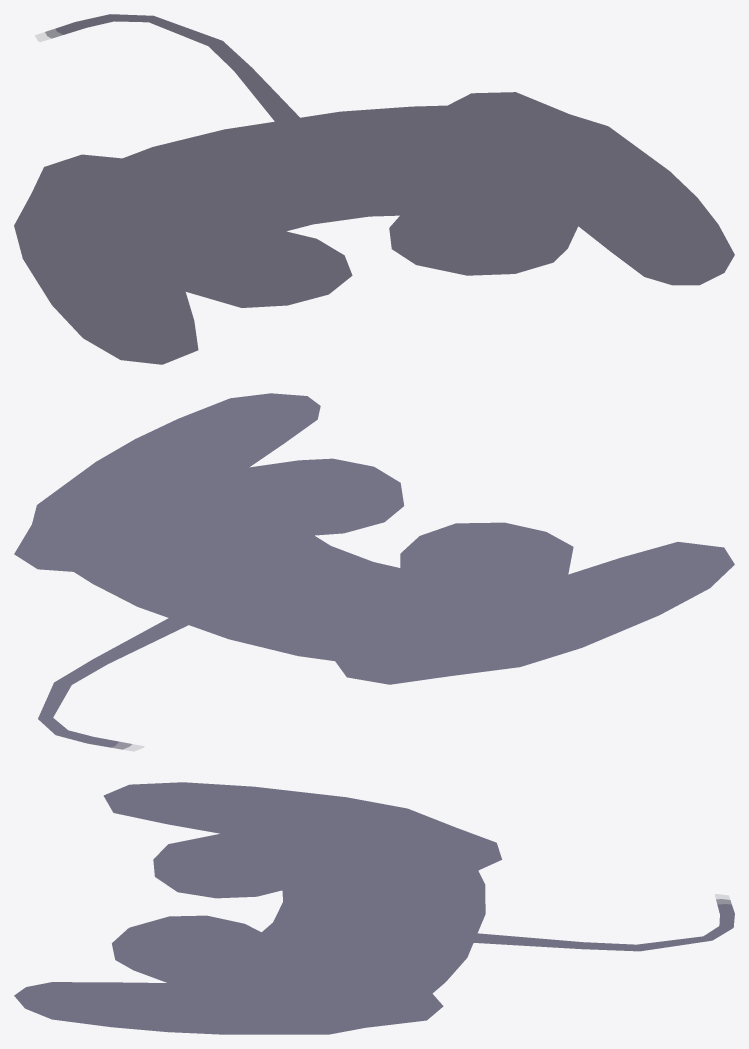
3 renders of one model, top to bottom at view 1: azimuth 30°, elevation 25°; view 2: azimuth 150°, elevation 25°; view 3: azimuth 270°, elevation 25°, orthographic. The views are drawn at different scales.
Visible parts, largest first — view 1: Joint_0_Object_0; view 2: Joint_0_Object_0; view 3: Joint_0_Object_0.
Part boxes in pixels (x1,y1,x2,y2): Joint_0_Object_0: [14, 14, 734, 364]; Joint_0_Object_0: [14, 393, 734, 749]; Joint_0_Object_0: [14, 782, 734, 1034].
Size of the model in its own units: 305 by 0 by 368.
Materials: 1 (1 with a texture image).
